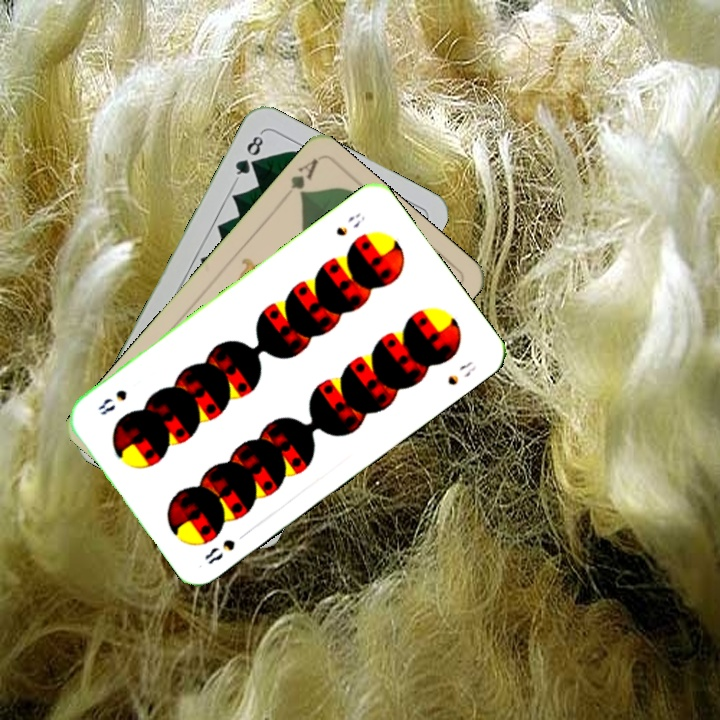G8: (231, 129, 266, 183)
GA: (286, 155, 321, 201)
S8: (200, 535, 238, 567), (331, 208, 368, 239)
